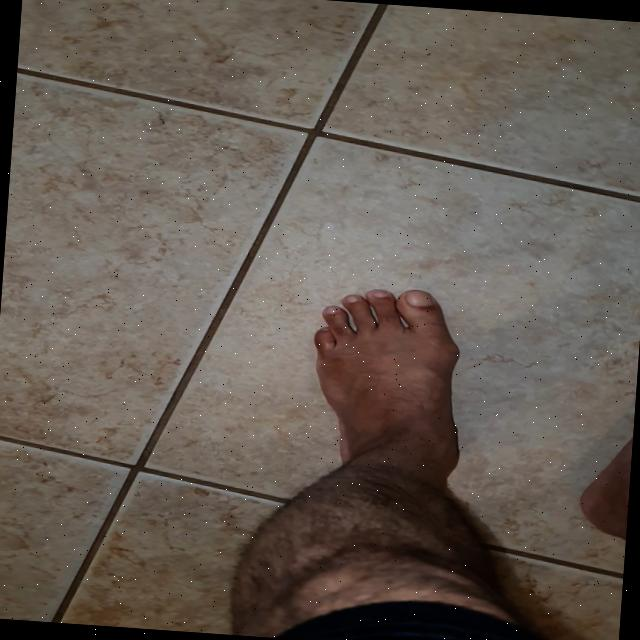no-boots: (294, 279, 496, 492)
